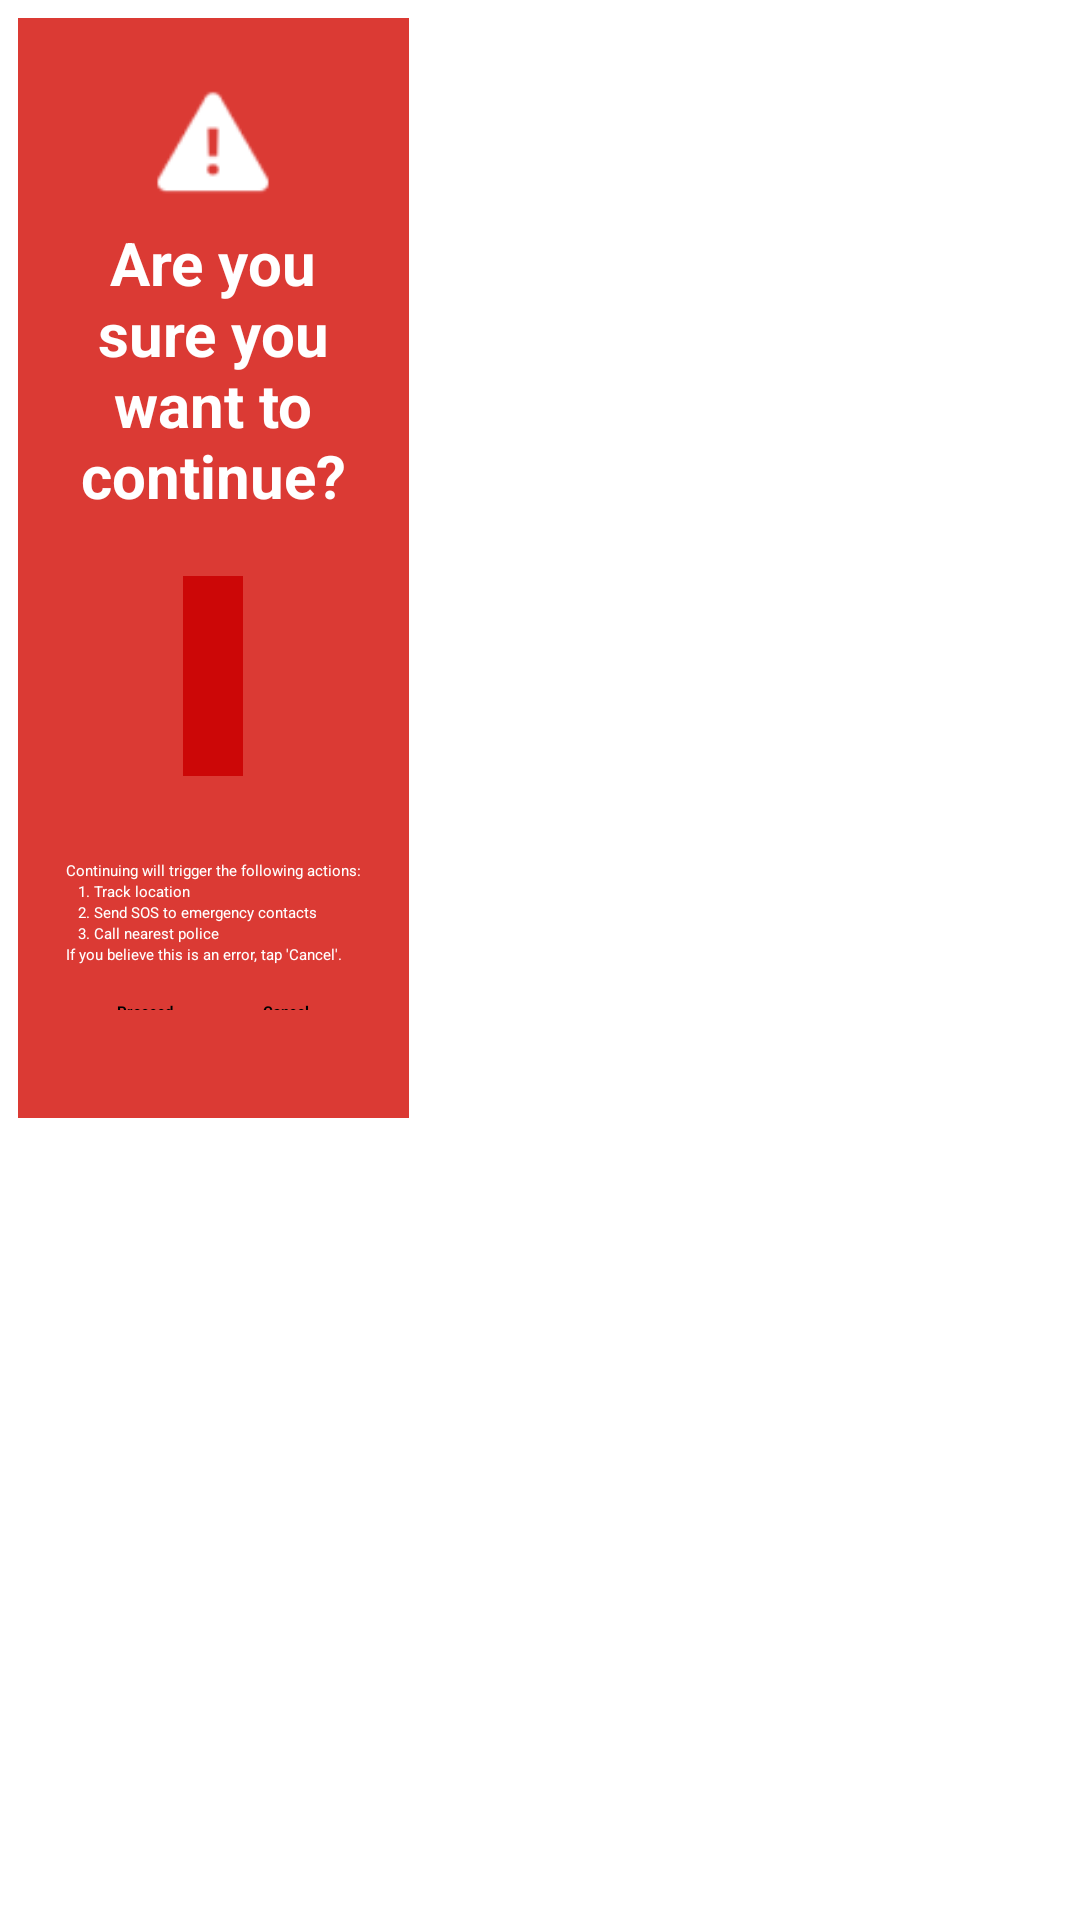

Named icons in this screenshot (1080*1920) and their bounding boxes, [x1, y1, x2, y2]:
errorpic: [157, 92, 269, 192]
